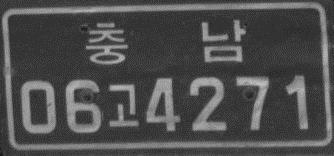0: (19, 77, 57, 138)
1: (282, 70, 312, 132)
2: (186, 74, 229, 133)
4: (143, 75, 182, 133)
6: (63, 78, 103, 135)
7: (231, 73, 273, 132)
고: (106, 81, 142, 130)
충남_D: (84, 17, 247, 66)
